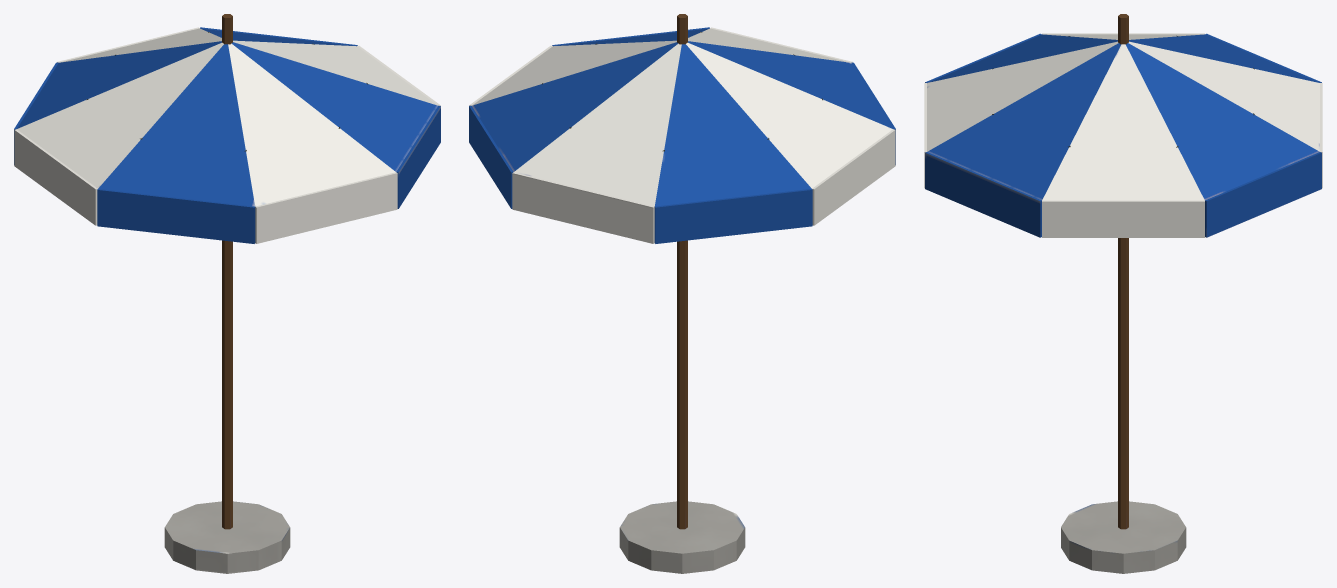
File: slunecnik_ba6e9b27.glb
3 views of the same model, side by side, from view 1: azimuth 30°, elevation 25°; view 2: azimuth 150°, elevation 25°; view 3: azimuth 270°, elevation 25° (orthographic).
Parts seen in each view (by area): view 1: dum; view 2: dum; view 3: dum.
Boxes of the visible parts, bbox=[...] form: dum: bbox=[14, 14, 440, 573]; dum: bbox=[469, 14, 895, 573]; dum: bbox=[924, 14, 1322, 573].
Size of the model in its own units: 1.77 by 2.61 by 1.77.
1 material, 1 textured.
